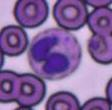N: (28, 28, 82, 78)
